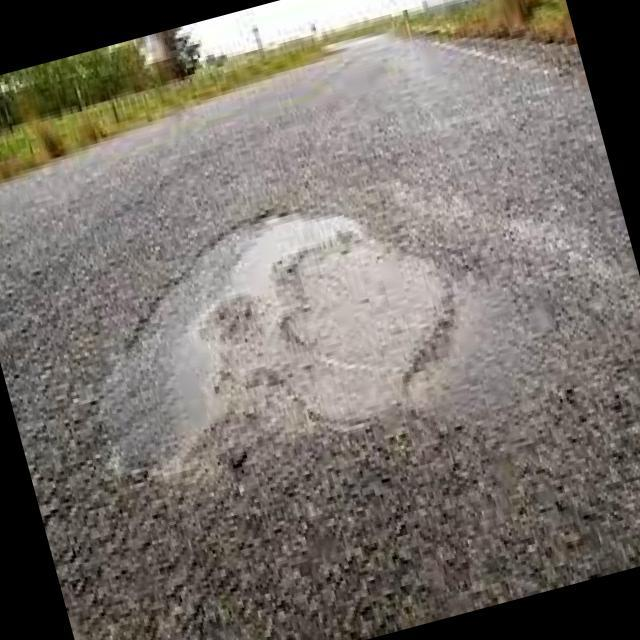Pothole: (99, 215, 456, 498)
